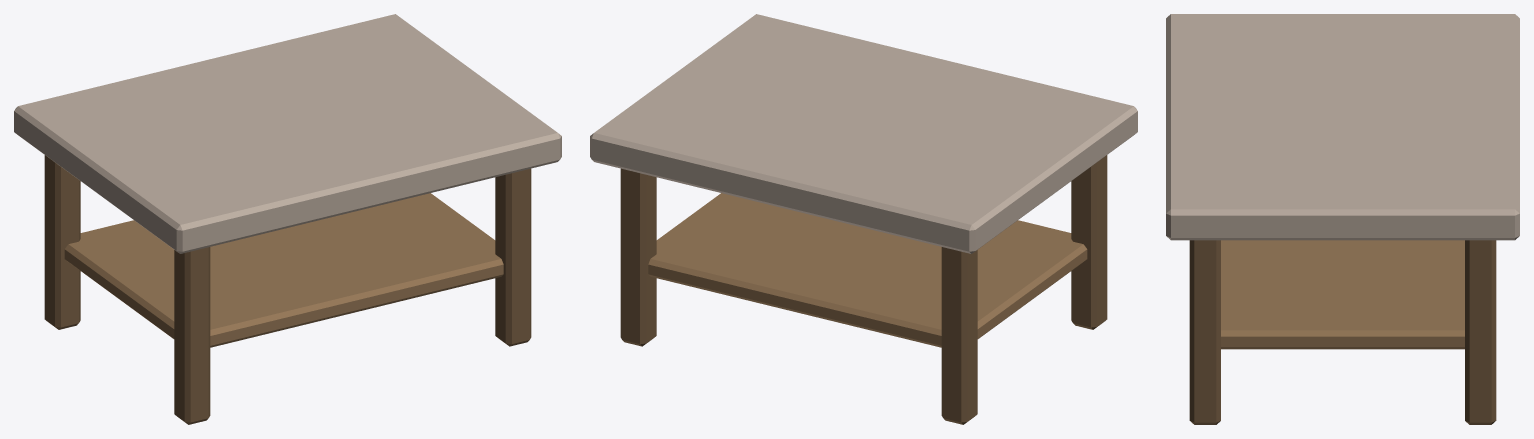
Rendered from table.lod1.glb.
3 renders of one model, left to right at view 1: azimuth 30°, elevation 25°; view 2: azimuth 150°, elevation 25°; view 3: azimuth 270°, elevation 25°, orthographic. The views are drawn at different scales.
Bounding box in the file's own units: 1.8 × 0.95 × 1.35.
